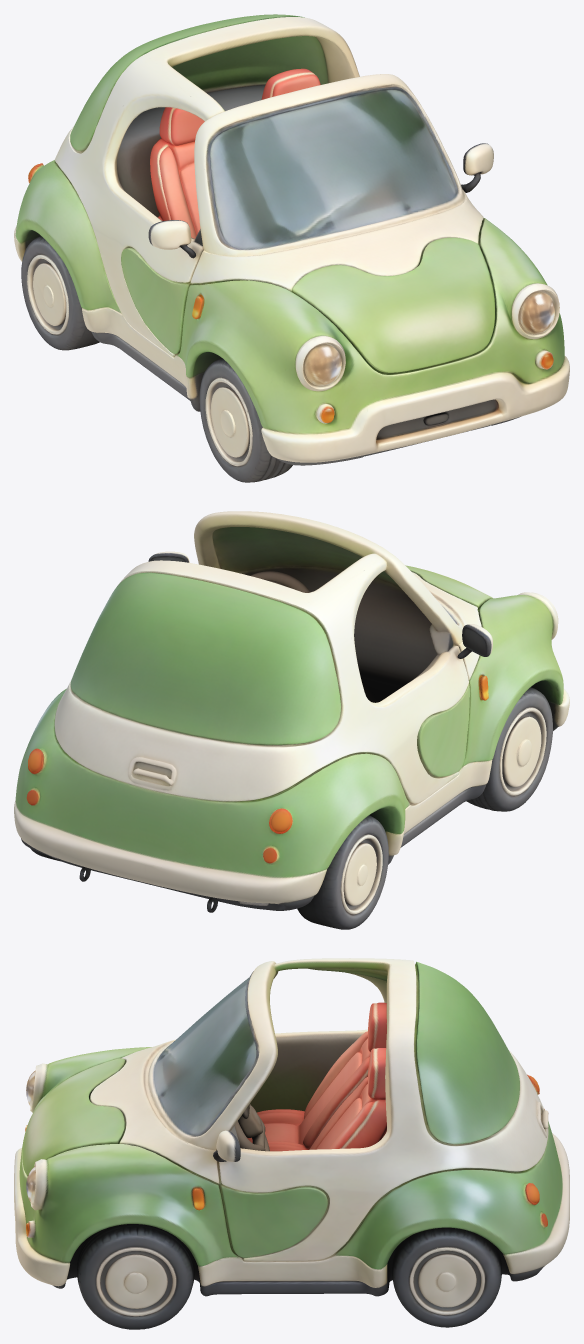
The model's file is sprout-original.glb.
3 renders of one model, top to bottom at view 1: azimuth 30°, elevation 25°; view 2: azimuth 150°, elevation 25°; view 3: azimuth 270°, elevation 25°, orthographic. The views are drawn at different scales.
Visible parts, largest first — view 1: model; view 2: model; view 3: model.
Part boxes in pixels (x1,y1,x2,y2): model: [14, 14, 569, 482]; model: [14, 511, 569, 929]; model: [14, 958, 569, 1329].
Bounding box in the file's own units: 1.23 × 1.05 × 1.9.
Materials: 1 (1 with a texture image).
